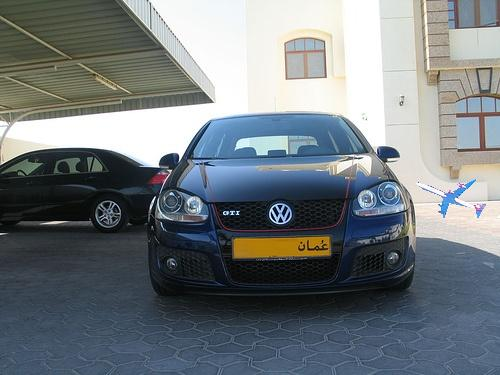tampered: (417, 180, 486, 218)
